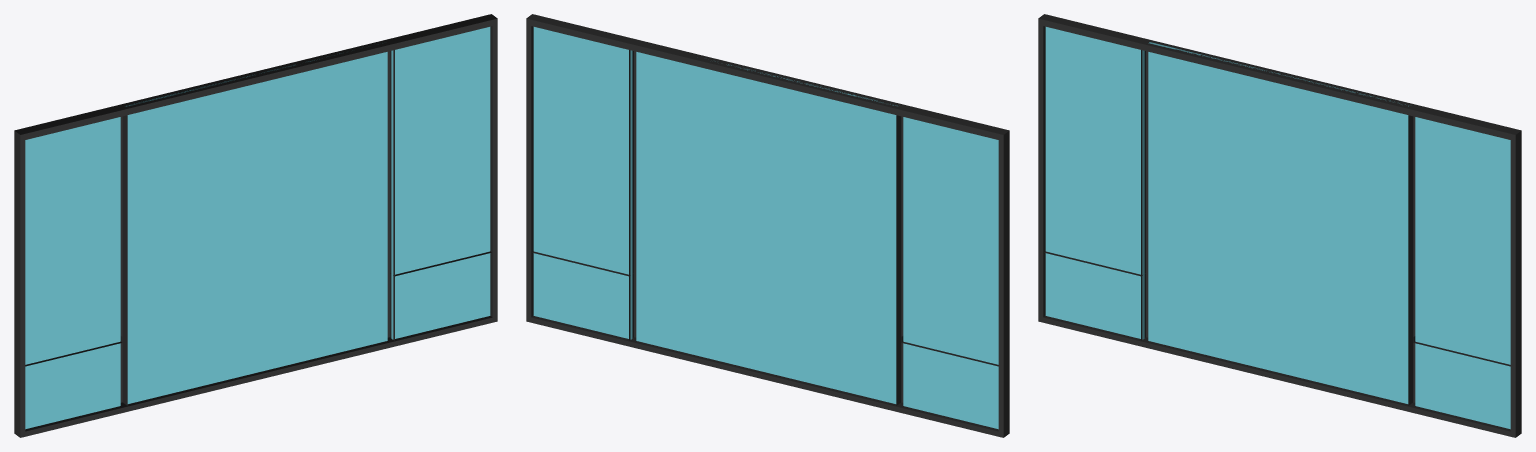
File: Window 11.fbx
The picture shows the model from 3 angles, left to right: view 1: azimuth 30°, elevation 25°; view 2: azimuth 150°, elevation 25°; view 3: azimuth 330°, elevation 25°; orthographic projection.
Visible parts, largest first — view 1: Node 0; view 2: Node 0; view 3: Node 0.
Boxes of the visible parts, box(x1,y1,x2,y2) form: Node 0: box(14, 14, 497, 437); Node 0: box(526, 14, 1009, 437); Node 0: box(1038, 14, 1521, 437).
Size of the model in its own units: 0.0954 by 2.56 by 4.23.
